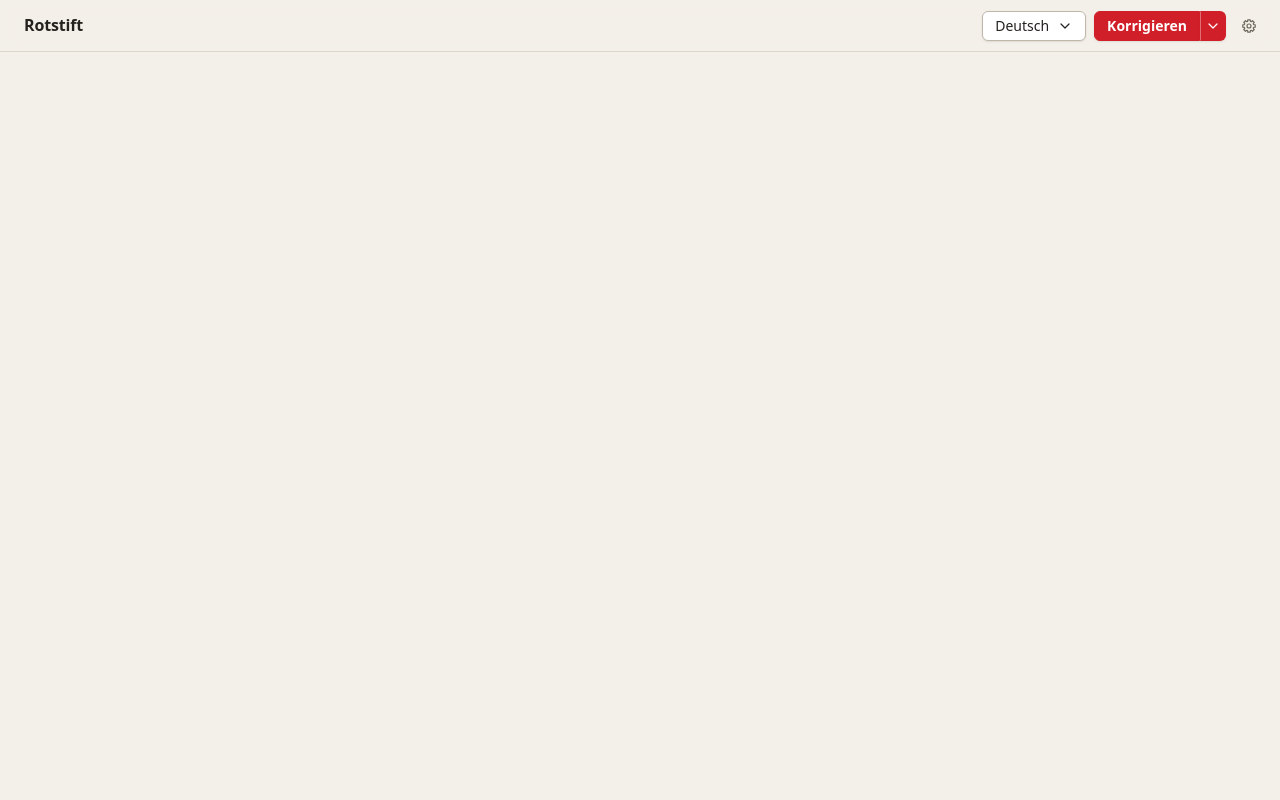
Test: Header › chooses the kinds and keeps at least one
This screenshot has width=1280, height=800.
Step 1. Click the button "Deutsch" → (1034, 26), box [982,10,1086,40]
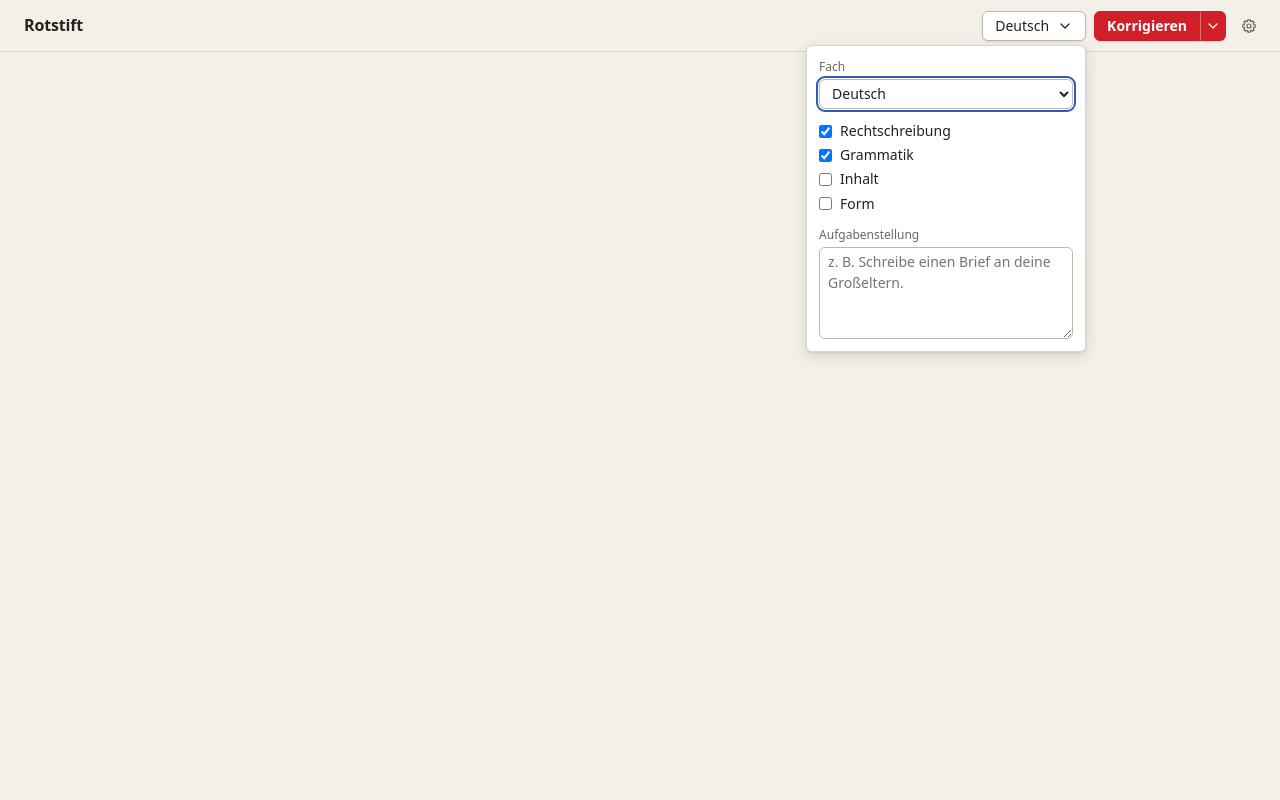
Check: the checkbox labelled "Rechtschreibung" is checked, box [819,124,832,138]
Check: the checkbox labelled "Grammatik" is checked
Step 2. Click the checkbox labelled "Grammatik" → (826, 155), box [819,149,832,162]
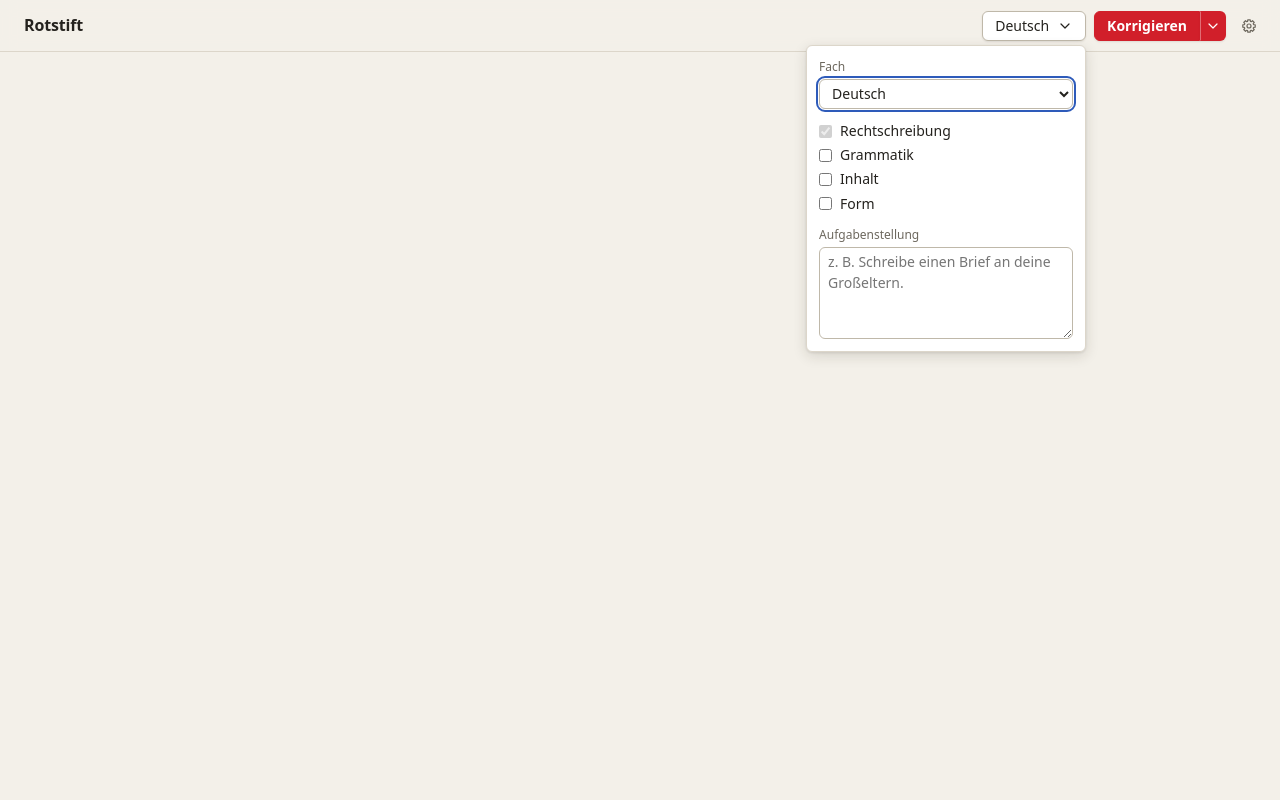
Check: the checkbox labelled "Grammatik" is enabled, box [819,149,832,162]
Check: the checkbox labelled "Rechtschreibung" is disabled, box [819,124,832,138]
